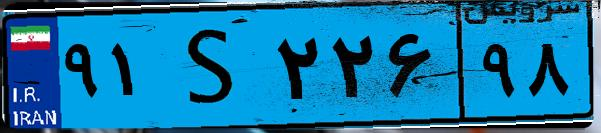1: (110, 28, 158, 98)
2: (270, 28, 330, 110), (330, 28, 385, 110)
6: (385, 28, 445, 110)
8: (525, 38, 570, 115)
9: (57, 26, 110, 100), (475, 38, 525, 113)
S: (158, 12, 270, 120)
